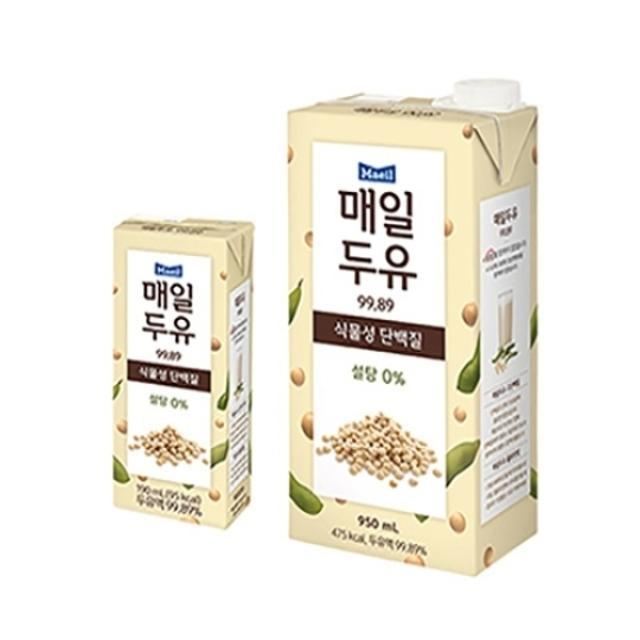Tetra: (275, 81, 542, 574), (92, 210, 268, 538)
